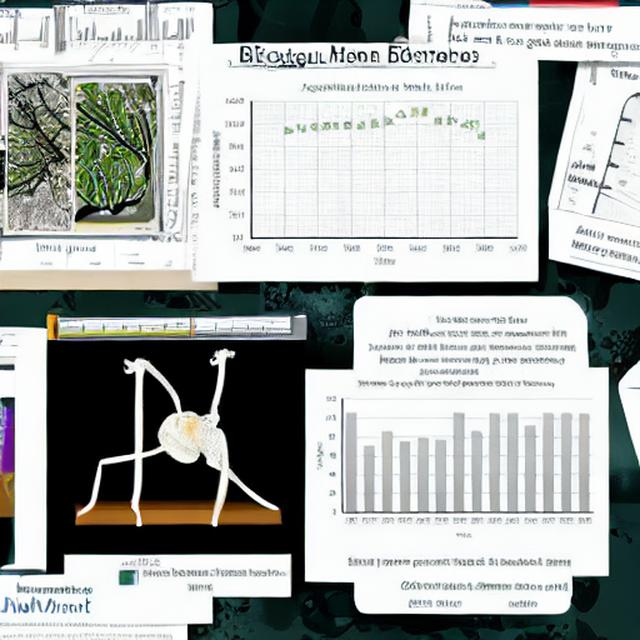Graph: (203, 73, 532, 269), (306, 375, 607, 547), (68, 8, 143, 63)
